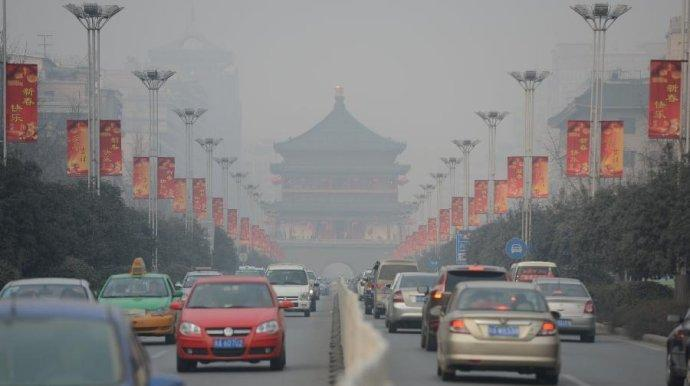car: (4, 301, 187, 386), (438, 277, 563, 385), (169, 274, 293, 372), (1, 276, 104, 372), (416, 261, 518, 350), (95, 257, 182, 342), (382, 269, 462, 333), (524, 276, 595, 342), (504, 259, 567, 321), (373, 259, 422, 319), (262, 263, 315, 317), (174, 267, 233, 309), (362, 268, 415, 314), (229, 264, 266, 304), (284, 267, 320, 300)
